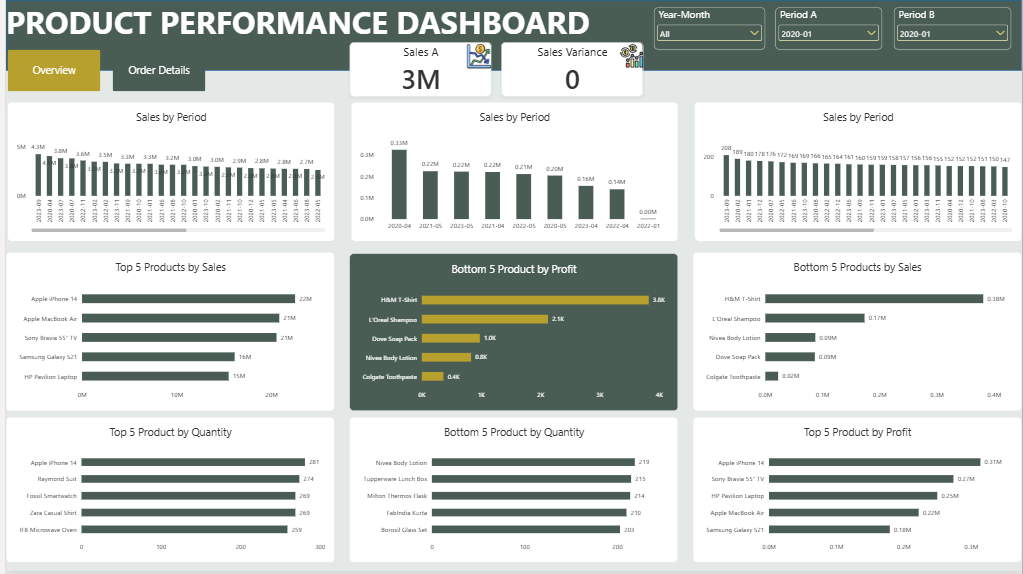

What the dashboard file says about the page in this screenshot:
{"tool":"powerbi","page":{"name":"Product Performance","canvas":[1920,1080],"ordinal":1},"visuals":[{"type":"shape","box":[0,0,1919.1,133.2],"z":0},{"type":"barChart","title":"Top 5 Products by Sales","fields":{"Category":["Dim Product.Product Name"],"Y":["Sum(Fact Table.Total Sales)"]},"box":[0,476.2,620.8,300.5],"z":1000},{"type":"barChart","title":"Bottom 5 Products by Sales","fields":{"Category":["Dim Product.Product Name"],"Y":["Sum(Fact Table.Total Sales)"]},"box":[1298.3,476.2,620.8,300.5],"z":2000},{"type":"barChart","title":"Top 5 Product by Profit","fields":{"Category":["Dim Product.Product Name"],"Y":["Sum(Fact Table.Profit)"]},"box":[1298.3,788,620.8,275],"z":3000},{"type":"barChart","title":"Bottom 5 Product by Profit","fields":{"Category":["Dim Product.Product Name"],"Y":["Sum(Fact Table.Profit)"]},"box":[649.1,479.1,620.8,297.6],"z":4000},{"type":"barChart","title":"Top 5 Product by Quantity","fields":{"Category":["Dim Product.Product Name"],"Y":["Sum(Fact Table.Units Sold)"]},"box":[0,788,620.8,275],"z":5000},{"type":"barChart","title":"Bottom 5 Product by Quantity","fields":{"Category":["Dim Product.Product Name"],"Y":["Sum(Fact Table.Units Sold)"]},"box":[649.1,788,620.8,275],"z":6000},{"type":"textbox","box":[0,0,1224.6,79.4],"z":7000},{"type":"slicer","fields":{"Values":["Calendar.Year-Month"]},"box":[1224.6,14.2,209.8,79.4],"z":8000},{"type":"clusteredColumnChart","title":"Sales by Period","fields":{"Category":["Calendar.Year-Month"],"Y":["Sum(Fact Table.Total Sales)"]},"box":[2.8,192.8,618,263.6],"z":9000},{"type":"clusteredColumnChart","title":"Sales by Period","fields":{"Category":["Calendar.Year-Month"],"Y":["Fact Table.Total Profit"]},"box":[652,192.8,618,263.6],"z":10000},{"type":"clusteredColumnChart","title":"Sales by Period","fields":{"Category":["Calendar.Year-Month"],"Y":["Fact Table.Total Quantity"]},"box":[1301.1,192.8,618,263.6],"z":11000},{"type":"slicer","fields":{"Values":["Period A.Period A"]},"box":[1454.2,14.2,201.3,79.4],"z":12000},{"type":"slicer","fields":{"Values":["Period B.Period B"]},"box":[1678.1,14.2,221.1,79.4],"z":13000},{"type":"cardVisual","fields":{"Data":["Period A.Sales A"]},"box":[649.1,79.4,269.3,104.9],"z":14000},{"type":"cardVisual","fields":{"Data":["Period A.Sales Variance"]},"box":[935.4,79.4,269.3,104.9],"z":15000},{"type":"actionButton","box":[2.8,93.5,175.7,79.4],"z":16000},{"type":"actionButton","box":[201.3,93.5,175.7,79.4],"z":17000},{"type":"image","box":[870.2,79.4,48.2,53.9],"z":17001},{"type":"image","box":[1159.4,76.5,45.4,56.7],"z":17002}]}

Visuals, with their boxes in screenshot pixels (x1, y1, x2, y2), scaled from the page's 1920x1080 canvas onto the 1023x574 screenshot:
shape: {"left": 0, "top": 0, "right": 1022, "bottom": 71}
"Top 5 Products by Sales" barChart: {"left": 0, "top": 253, "right": 331, "bottom": 413}
"Bottom 5 Products by Sales" barChart: {"left": 692, "top": 253, "right": 1022, "bottom": 413}
"Top 5 Product by Profit" barChart: {"left": 692, "top": 419, "right": 1022, "bottom": 565}
"Bottom 5 Product by Profit" barChart: {"left": 346, "top": 255, "right": 677, "bottom": 413}
"Top 5 Product by Quantity" barChart: {"left": 0, "top": 419, "right": 331, "bottom": 565}
"Bottom 5 Product by Quantity" barChart: {"left": 346, "top": 419, "right": 677, "bottom": 565}
textbox: {"left": 0, "top": 0, "right": 652, "bottom": 42}
slicer - Calendar.Year-Month: {"left": 652, "top": 8, "right": 764, "bottom": 50}
"Sales by Period" clusteredColumnChart: {"left": 1, "top": 102, "right": 331, "bottom": 243}
"Sales by Period" clusteredColumnChart: {"left": 347, "top": 102, "right": 677, "bottom": 243}
"Sales by Period" clusteredColumnChart: {"left": 693, "top": 102, "right": 1022, "bottom": 243}
slicer - Period A.Period A: {"left": 775, "top": 8, "right": 882, "bottom": 50}
slicer - Period B.Period B: {"left": 894, "top": 8, "right": 1012, "bottom": 50}
cardVisual - Period A.Sales A: {"left": 346, "top": 42, "right": 489, "bottom": 98}
cardVisual - Period A.Sales Variance: {"left": 498, "top": 42, "right": 642, "bottom": 98}
actionButton: {"left": 1, "top": 50, "right": 95, "bottom": 92}
actionButton: {"left": 107, "top": 50, "right": 201, "bottom": 92}
image: {"left": 464, "top": 42, "right": 489, "bottom": 71}
image: {"left": 618, "top": 41, "right": 642, "bottom": 71}
